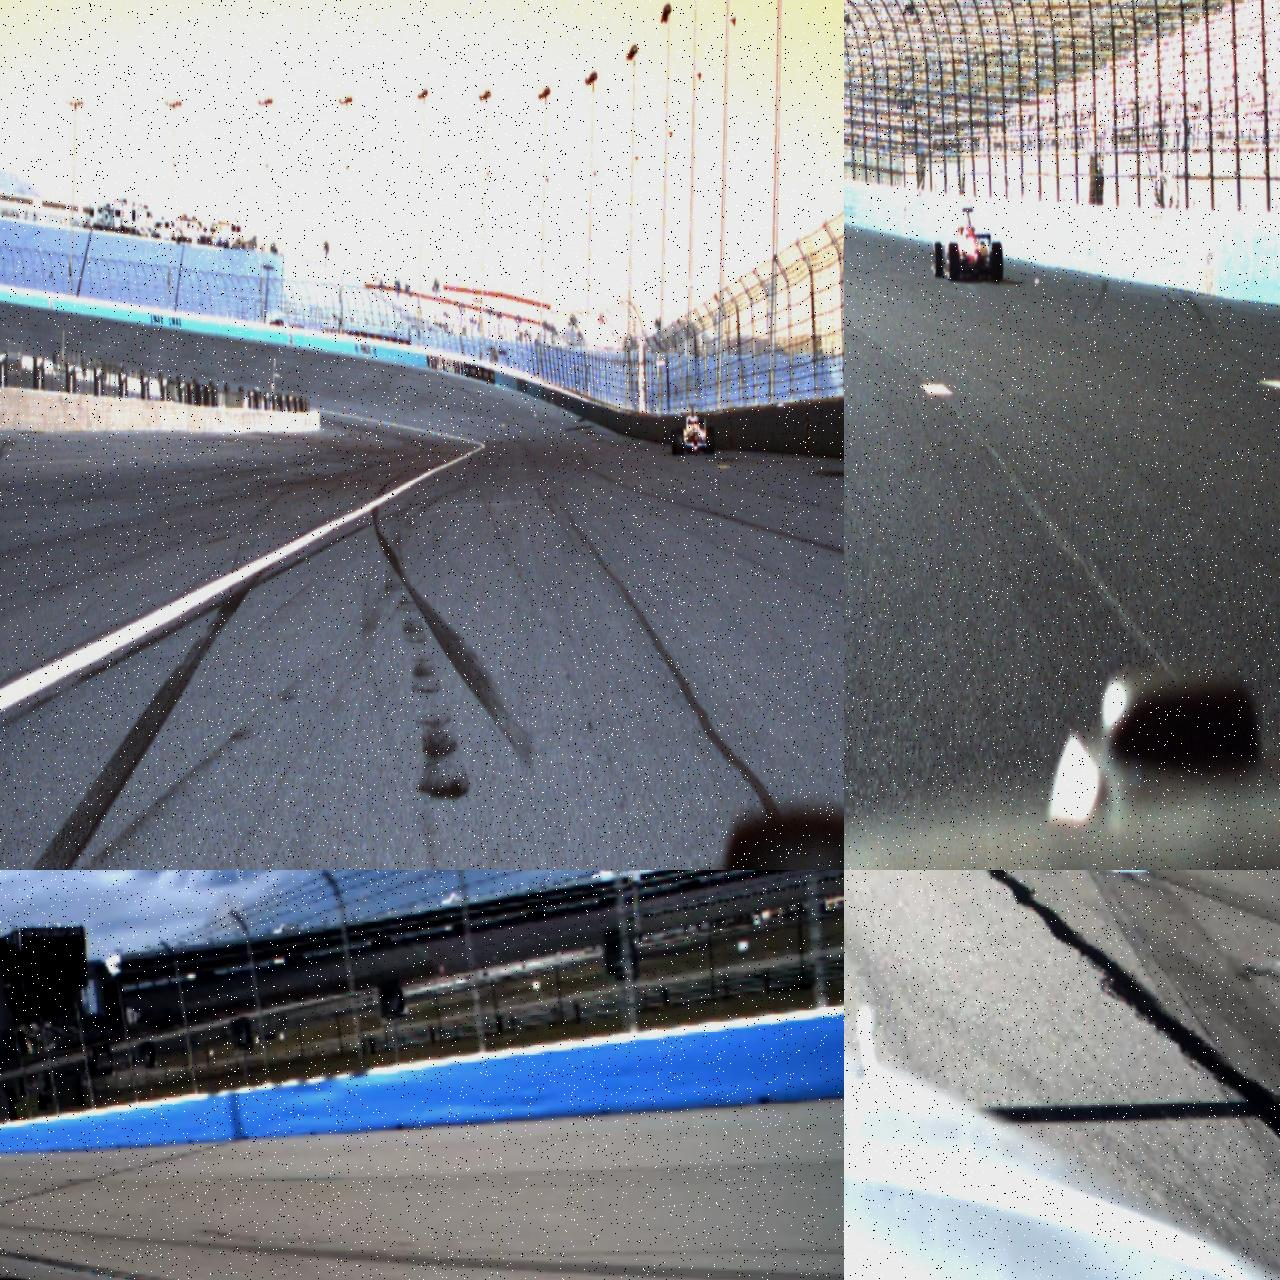AV: (930, 207, 1005, 282), (670, 403, 715, 456)
Wheel: (990, 241, 1005, 280), (949, 241, 960, 281), (933, 243, 942, 277), (707, 425, 715, 454), (675, 429, 683, 455), (672, 429, 676, 455)
